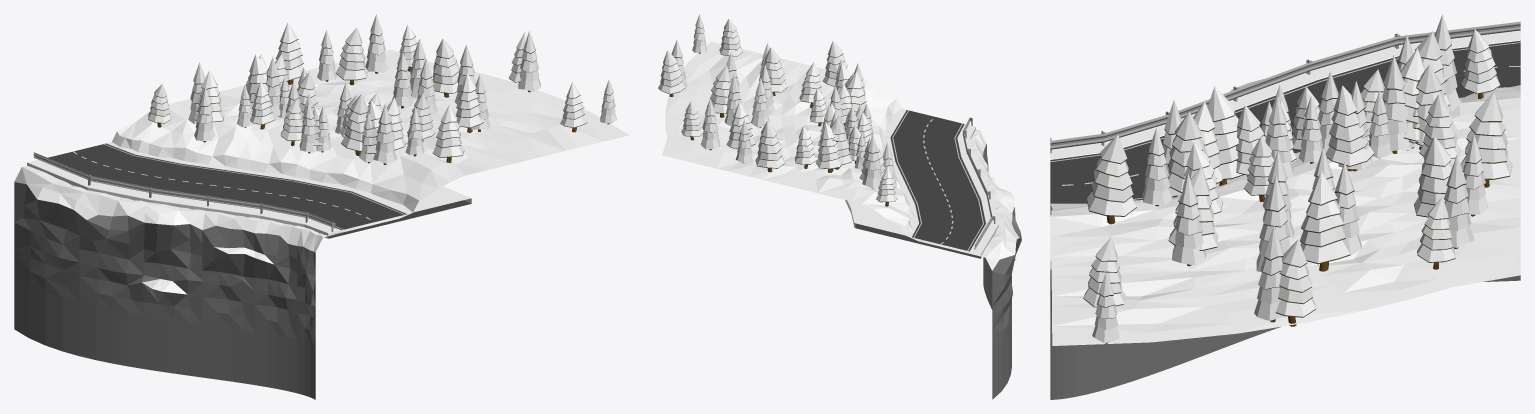
The model's file is SnowRoadStraight4.fbx.
3 renders of one model, left to right at view 1: azimuth 30°, elevation 25°; view 2: azimuth 150°, elevation 25°; view 3: azimuth 270°, elevation 25°, orthographic. The views are drawn at different scales.
Parts seen in each view (by area): view 1: SRS4Plane, SRS4Road, SRS4Guardrail, SRS4Plane|pineTree04|Dupli|25, SRS4Plane|pineTree04|Dupli|11, SRS4Plane|pineTree04|Dupli|33, SRS4Plane|pineTree04|Dupli|37, SRS4Plane|pineTree04|Dupli|47, SRS4Plane|pineTree04|Dupli|19, SRS4Plane|pineTree05|Dupli|40, SRS4Plane|pineTree05|Dupli|32, SRS4Plane|pineTree05|Dupli|26 (+16 smaller); view 2: SRS4Plane, SRS4Road, SRS4Plane|pineTree04|Dupli|47, SRS4Plane|pineTree04|Dupli|5, SRS4Plane|pineTree04|Dupli|43, SRS4Plane|pineTree04|Dupli|25, SRS4Plane|pineTree05|Dupli|4, SRS4Plane|pineTree04|Dupli|37, SRS4Plane|pineTree05|Dupli|26, SRS4Plane|pineTree04|Dupli|11, SRS4Plane|pineTree04|Dupli|39, SRS4Plane|pineTree05|Dupli|24 (+13 smaller); view 3: SRS4Plane, SRS4Road, SRS4Guardrail, SRS4Plane|pineTree04|Dupli|25, SRS4Plane|pineTree04|Dupli|33, SRS4Plane|pineTree04|Dupli|47, SRS4Plane|pineTree04|Dupli|13, SRS4Plane|pineTree04|Dupli|43, SRS4Plane|pineTree05|Dupli|36, SRS4Plane|pineTree04|Dupli|19, SRS4Plane|pineTree04|Dupli|11, SRS4Plane|pineTree05|Dupli|40 (+30 smaller).
Boxes of the visible parts, x1,y1,x2,y2 form: SRS4Plane: (14, 50, 629, 399); SRS4Road: (27, 142, 471, 238); SRS4Guardrail: (33, 152, 335, 232); SRS4Plane|pineTree04|Dupli|25: (432, 38, 459, 97); SRS4Plane|pineTree04|Dupli|11: (336, 27, 367, 85); SRS4Plane|pineTree04|Dupli|33: (432, 104, 464, 162); SRS4Plane|pineTree04|Dupli|37: (456, 73, 483, 132); SRS4Plane|pineTree04|Dupli|47: (275, 22, 306, 84); SRS4Plane|pineTree04|Dupli|19: (341, 94, 368, 155); SRS4Plane|pineTree05|Dupli|40: (518, 31, 540, 92); SRS4Plane|pineTree05|Dupli|32: (373, 103, 396, 164); SRS4Plane|pineTree05|Dupli|26: (365, 14, 388, 73); SRS4Plane: (662, 41, 1021, 399); SRS4Road: (845, 108, 998, 258); SRS4Plane|pineTree04|Dupli|47: (755, 121, 784, 172); SRS4Plane|pineTree04|Dupli|5: (815, 123, 841, 172); SRS4Plane|pineTree04|Dupli|43: (658, 50, 684, 96); SRS4Plane|pineTree04|Dupli|25: (707, 65, 731, 117); SRS4Plane|pineTree05|Dupli|4: (862, 135, 881, 189); SRS4Plane|pineTree04|Dupli|37: (762, 47, 787, 95); SRS4Plane|pineTree05|Dupli|26: (700, 99, 719, 150); SRS4Plane|pineTree04|Dupli|11: (726, 101, 755, 148); SRS4Plane|pineTree04|Dupli|39: (719, 19, 742, 56); SRS4Plane|pineTree05|Dupli|24: (751, 78, 769, 127); SRS4Plane: (1050, 79, 1520, 399); SRS4Road: (1050, 30, 1520, 269); SRS4Guardrail: (1050, 21, 1520, 153); SRS4Plane|pineTree04|Dupli|25: (1300, 171, 1350, 271); SRS4Plane|pineTree04|Dupli|33: (1086, 134, 1136, 224); SRS4Plane|pineTree04|Dupli|47: (1460, 91, 1512, 187); SRS4Plane|pineTree04|Dupli|13: (1325, 85, 1374, 171); SRS4Plane|pineTree04|Dupli|43: (1275, 239, 1316, 326); SRS4Plane|pineTree05|Dupli|36: (1172, 174, 1206, 266); SRS4Plane|pineTree04|Dupli|19: (1207, 86, 1244, 185); SRS4Plane|pineTree04|Dupli|11: (1414, 136, 1452, 217); SRS4Plane|pineTree05|Dupli|40: (1254, 226, 1284, 322).
Size of what is drawn, in the model's own units: 18528 by 9322 by 10000.
